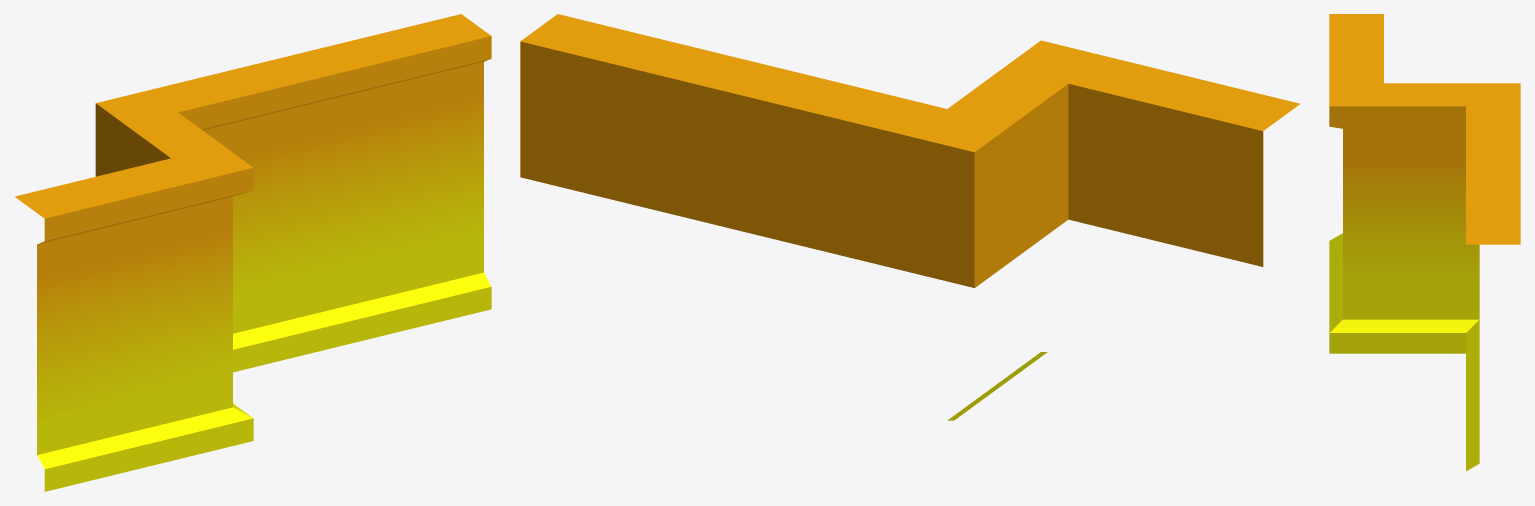
Rendered from cornice-metal-90angle-l.glb.
3 views of the same model, side by side, from view 1: azimuth 30°, elevation 25°; view 2: azimuth 150°, elevation 25°; view 3: azimuth 270°, elevation 25° (orthographic). The views are drawn at different scales.
Parts seen in each view (by area): view 1: Cornice_Metal_90Angle_L; view 2: Cornice_Metal_90Angle_L; view 3: Cornice_Metal_90Angle_L.
Part boxes in pixels (x1=…): Cornice_Metal_90Angle_L: x1=15, y1=14, x2=491, y2=491; Cornice_Metal_90Angle_L: x1=520, y1=14, x2=1300, y2=420; Cornice_Metal_90Angle_L: x1=1329, y1=14, x2=1520, y2=471.
Size of the model in its own units: 2 by 1 by 0.7.
Materials: 1 (1 with a texture image).
